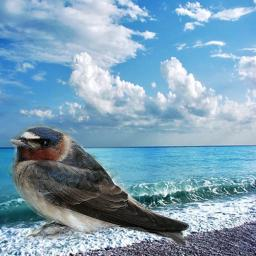Swallow: (5, 124, 192, 247)
